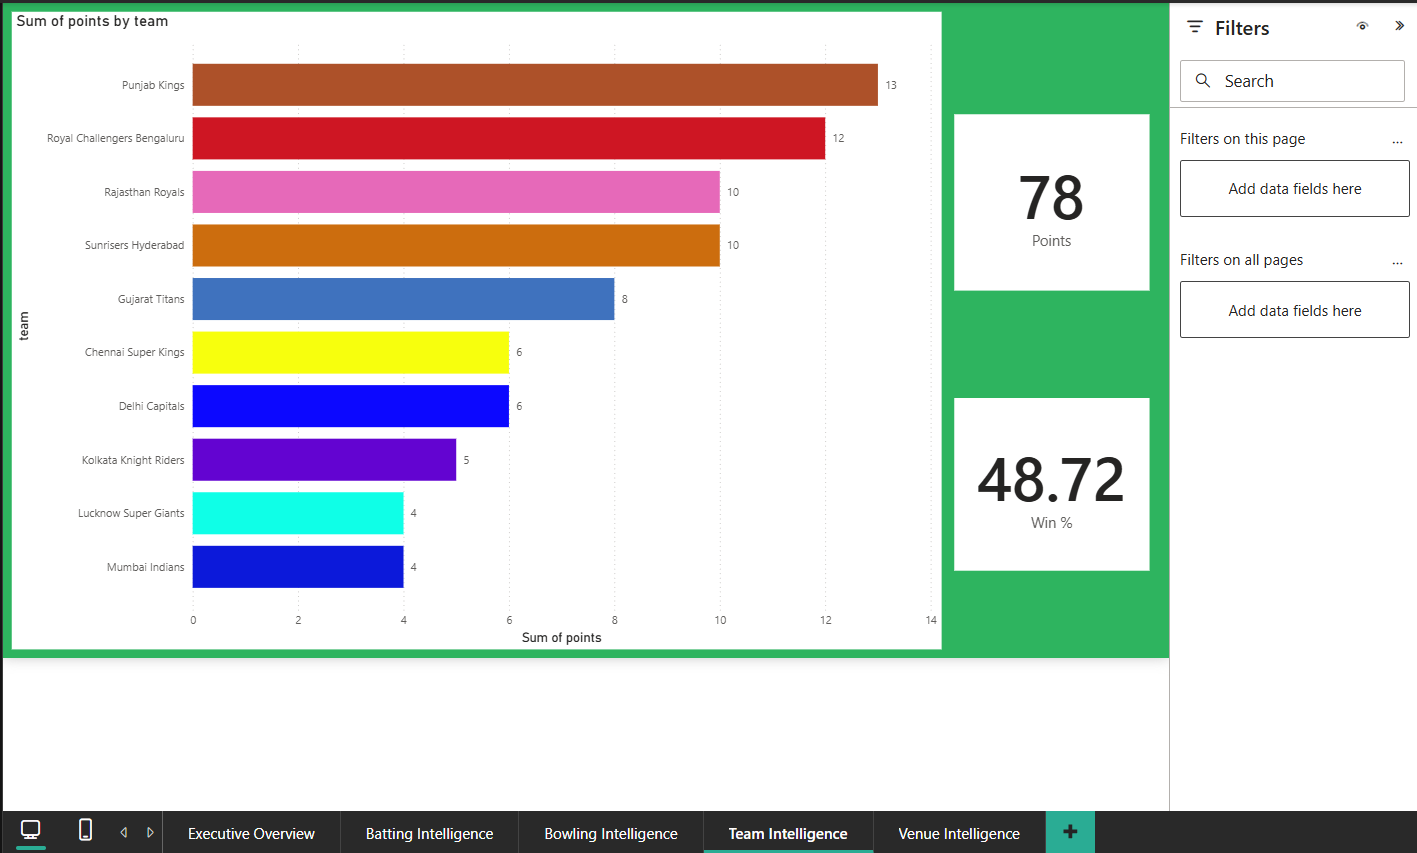

Layout of this report page (visuals, bound fields, positions):
{"tool":"powerbi","page":{"name":"Team Intelligence","canvas":[1280,720],"ordinal":3},"visuals":[{"type":"barChart","fields":{"Category":["points_table.team"],"Y":["Sum(points_table.points)"]},"box":[9.6,9.6,1020.9,699.8],"z":0},{"type":"card","fields":{"Values":["New Measures.Points"]},"box":[1044.3,122.1,214.1,193.5],"z":1000},{"type":"card","fields":{"Values":["New Measures.Win %"]},"box":[1044.3,433.6,214.1,189.4],"z":2000}]}

Visuals, with their boxes on the page's 1280x720 design canvas (x1, y1, x2, y2). These are canvas units, not pixel positions in the 1417x853 screenshot, which may show the page scaled, cropped or inside an application window:
barChart - points_table.team x Sum(points_table.points): rect(10, 10, 1030, 709)
card - New Measures.Points: rect(1044, 122, 1258, 316)
card - New Measures.Win %: rect(1044, 434, 1258, 623)
